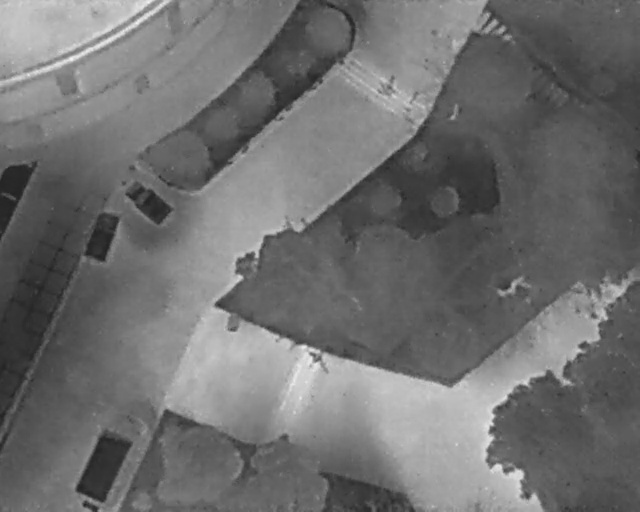OtherVehicle: (68, 422, 132, 510), (118, 172, 178, 230), (78, 206, 123, 267)
